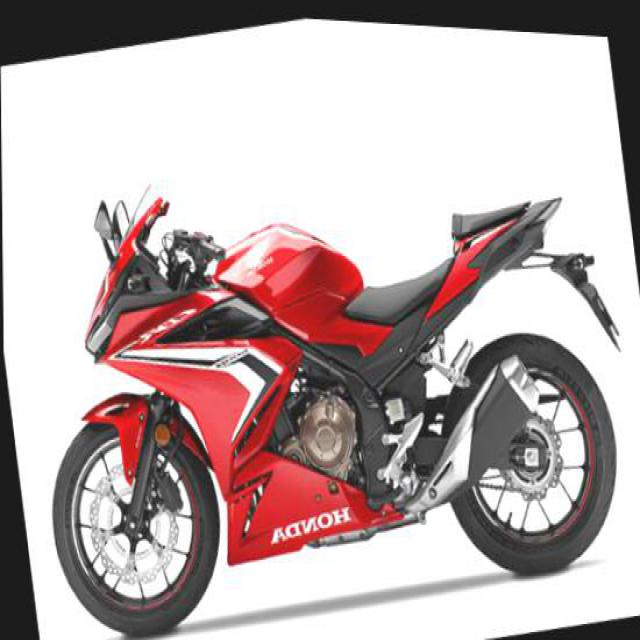CBR500R: (8, 69, 639, 638)
